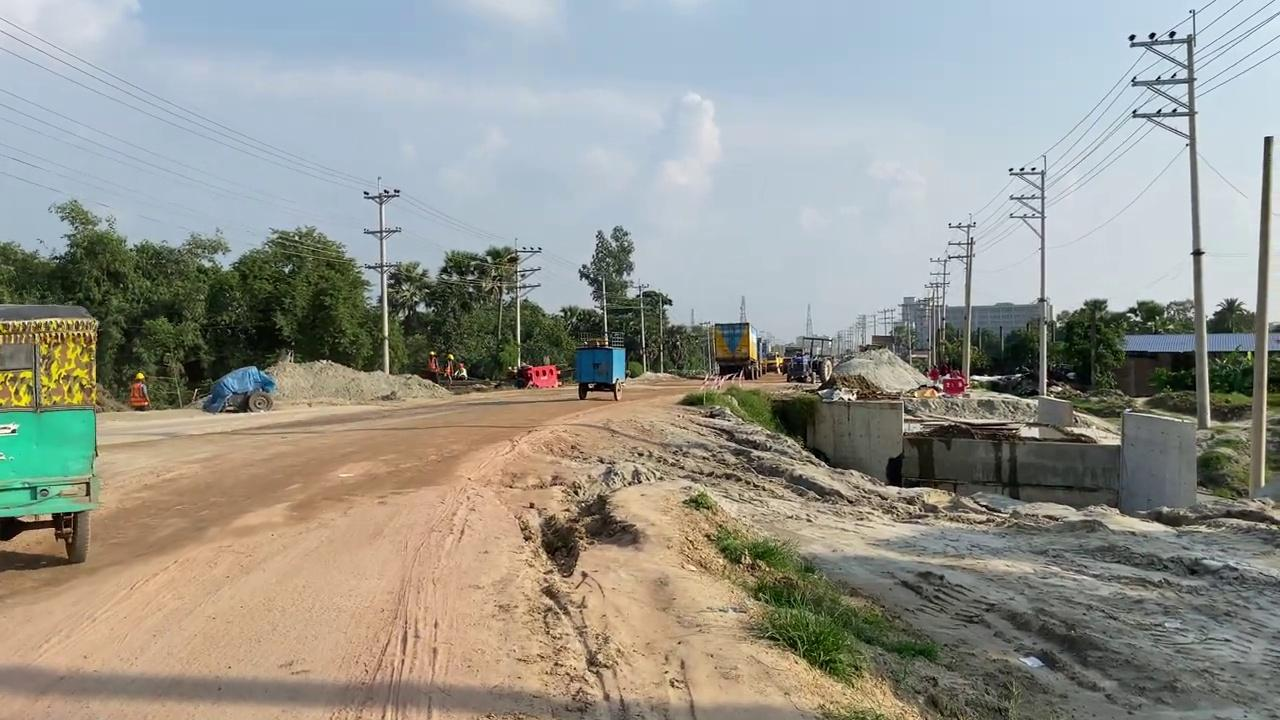Garbage-bin: (572, 344, 627, 401)
Light-pole: (362, 177, 401, 374)
Pole: (1248, 134, 1273, 497)
Traffic-sign: (578, 223, 635, 345)
Tree: (0, 301, 102, 563), (573, 274, 627, 401), (709, 321, 761, 380), (785, 334, 833, 384), (420, 350, 467, 387), (211, 386, 273, 412), (918, 363, 966, 396), (512, 363, 561, 389), (785, 350, 816, 382), (762, 351, 784, 375)
Upstairs: (774, 392, 1197, 513)
